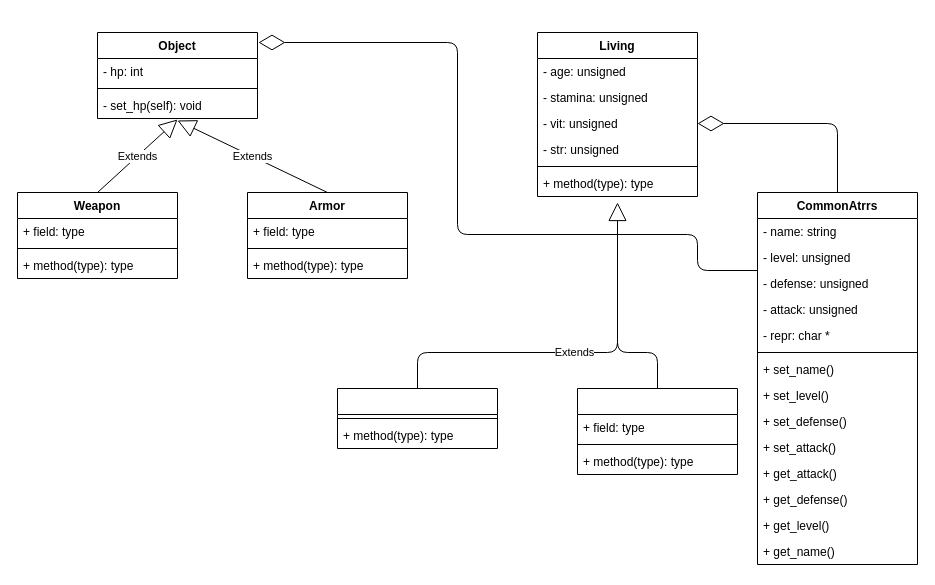
The diagram is 935 pixels wide and 585 high, and some of its shapes have lost their labels. The shapes that lost their labels are listed below. From the top down, each one's box as (x1, y1, x2, y2) in pixels, then its label:
(336, 388, 498, 448): Player
(576, 388, 738, 474): Monster
